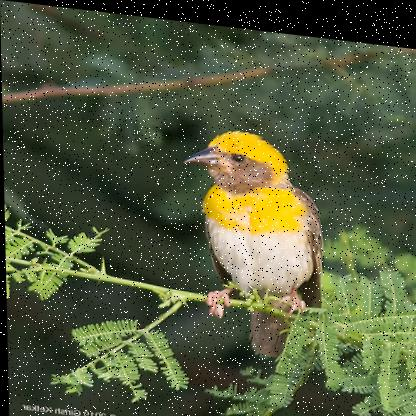Burung: (183, 119, 326, 357)
